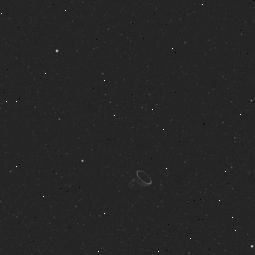debris: (126, 169, 157, 198)
